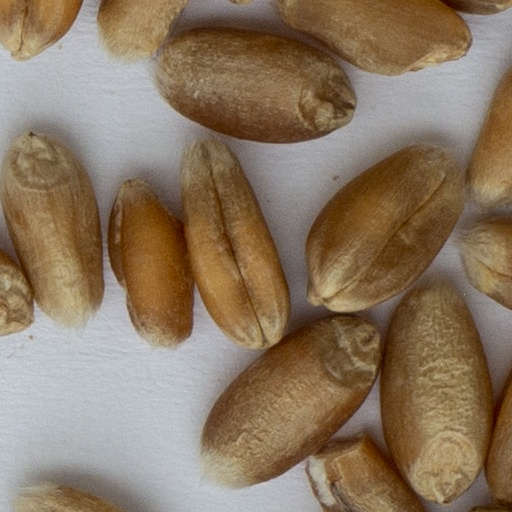Wheat-grain-damaged-poly: (307, 429, 427, 511)
